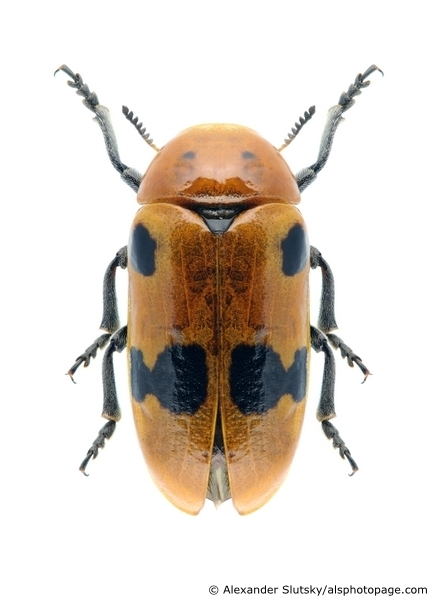Clytra_novempunctata: (41, 45, 387, 526)
